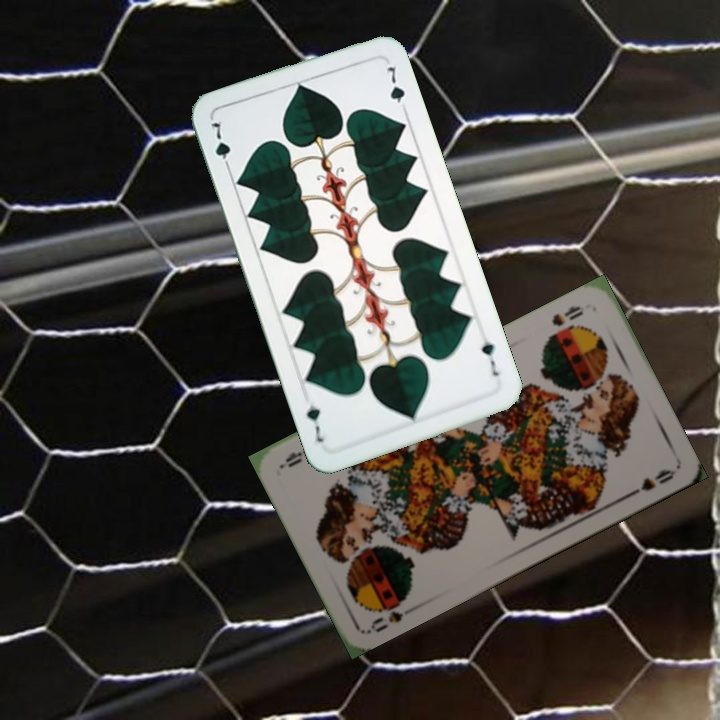G7: (206, 116, 234, 174), (477, 337, 502, 379)
SO: (364, 590, 420, 636), (547, 301, 587, 329)
